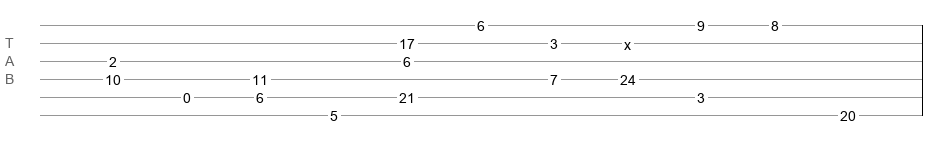0: (183, 90, 191, 100)
10: (105, 72, 121, 82)
11: (252, 72, 268, 82)
17: (399, 36, 415, 46)
2: (109, 54, 117, 64)
20: (840, 108, 856, 118)
21: (399, 90, 415, 100)
24: (620, 72, 636, 82)
3: (550, 36, 558, 46), (697, 90, 705, 100)
5: (330, 108, 338, 118)
6: (256, 90, 264, 100), (403, 54, 411, 64), (477, 18, 485, 28)
7: (550, 72, 558, 82)
8: (771, 18, 779, 28)
9: (697, 18, 705, 28)
x: (624, 37, 631, 45)
